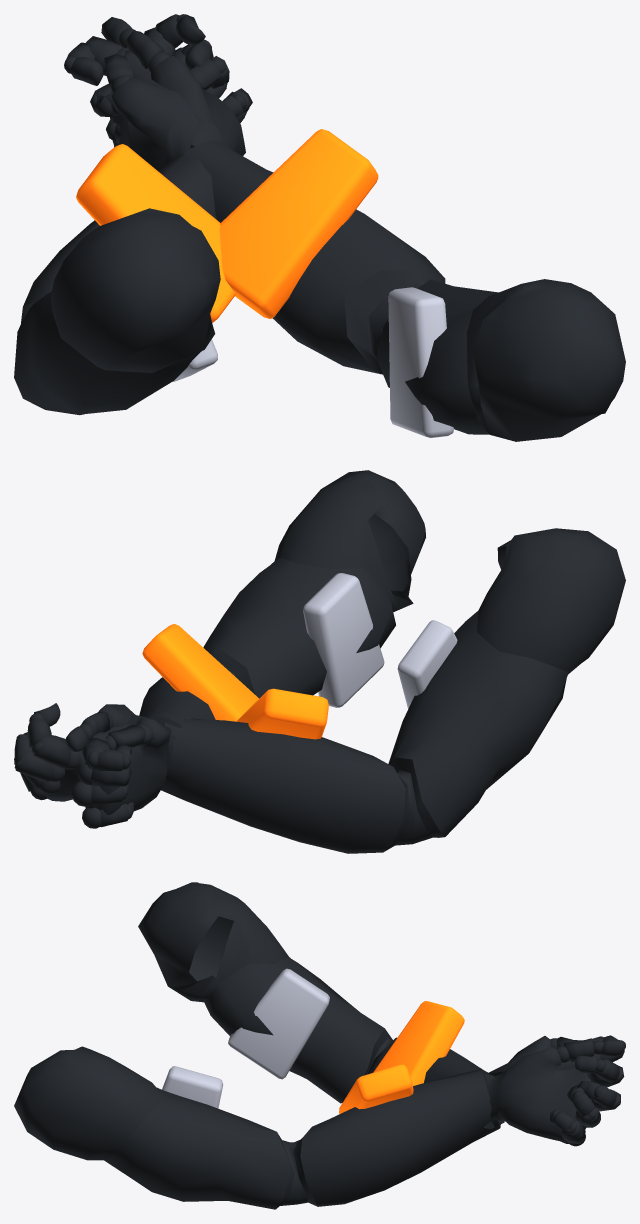
Rendered from kyx-view-arms.glb.
3 views of the same model, one above another, from view 1: azimuth 30°, elevation 25°; view 2: azimuth 150°, elevation 25°; view 3: azimuth 270°, elevation 25° (orthographic). The views are drawn at different scales.
Visible parts, largest first — view 1: KYX_ViewRight_Sleeve, KYX_ViewLeft_Sleeve, KYX_ViewRight_KYX_ForearmGuard_Right, KYX_ViewRight_Hand, KYX_ViewLeft_Hand, KYX_ViewLeft_KYX_ForearmGuard_Left, KYX_ViewRight_KYX_BicepGuard_Right, KYX_ViewLeft_KYX_BicepGuard_Left; view 2: KYX_ViewLeft_Sleeve, KYX_ViewRight_Sleeve, KYX_ViewRight_Hand, KYX_ViewRight_KYX_BicepGuard_Right, KYX_ViewLeft_Hand, KYX_ViewRight_KYX_ForearmGuard_Right, KYX_ViewLeft_KYX_ForearmGuard_Left, KYX_ViewLeft_KYX_BicepGuard_Left; view 3: KYX_ViewRight_Sleeve, KYX_ViewLeft_Sleeve, KYX_ViewLeft_Hand, KYX_ViewLeft_KYX_BicepGuard_Left, KYX_ViewLeft_KYX_ForearmGuard_Left, KYX_ViewRight_KYX_ForearmGuard_Right, KYX_ViewRight_KYX_BicepGuard_Right, KYX_ViewRight_Hand.
Boxes of the visible parts, bbox=[...] form: KYX_ViewRight_Sleeve: bbox=[183, 140, 625, 441]; KYX_ViewLeft_Sleeve: bbox=[14, 146, 220, 415]; KYX_ViewRight_KYX_ForearmGuard_Right: bbox=[219, 129, 378, 318]; KYX_ViewRight_Hand: bbox=[64, 36, 197, 170]; KYX_ViewLeft_Hand: bbox=[101, 14, 252, 155]; KYX_ViewLeft_KYX_ForearmGuard_Left: bbox=[76, 144, 235, 323]; KYX_ViewRight_KYX_BicepGuard_Right: bbox=[388, 287, 453, 437]; KYX_ViewLeft_KYX_BicepGuard_Left: bbox=[172, 339, 217, 381]; KYX_ViewLeft_Sleeve: bbox=[161, 528, 625, 853]; KYX_ViewRight_Sleeve: bbox=[139, 470, 425, 727]; KYX_ViewRight_Hand: bbox=[71, 714, 176, 828]; KYX_ViewRight_KYX_BicepGuard_Right: bbox=[303, 573, 384, 707]; KYX_ViewLeft_Hand: bbox=[14, 703, 135, 801]; KYX_ViewRight_KYX_ForearmGuard_Right: bbox=[142, 624, 259, 721]; KYX_ViewLeft_KYX_ForearmGuard_Left: bbox=[237, 688, 328, 739]; KYX_ViewLeft_KYX_BicepGuard_Left: bbox=[397, 620, 457, 708]; KYX_ViewRight_Sleeve: bbox=[14, 1046, 500, 1209]; KYX_ViewLeft_Sleeve: bbox=[138, 882, 504, 1129]; KYX_ViewLeft_Hand: bbox=[487, 1038, 625, 1146]; KYX_ViewLeft_KYX_BicepGuard_Left: bbox=[228, 968, 329, 1079]; KYX_ViewLeft_KYX_ForearmGuard_Left: bbox=[373, 1001, 464, 1085]; KYX_ViewRight_KYX_ForearmGuard_Right: bbox=[339, 1064, 413, 1113]; KYX_ViewRight_KYX_BicepGuard_Right: bbox=[162, 1066, 223, 1108]; KYX_ViewRight_Hand: bbox=[487, 1035, 624, 1127].
Bounding box in the file's own units: 0.4464 × 0.2708 × 0.7399.
